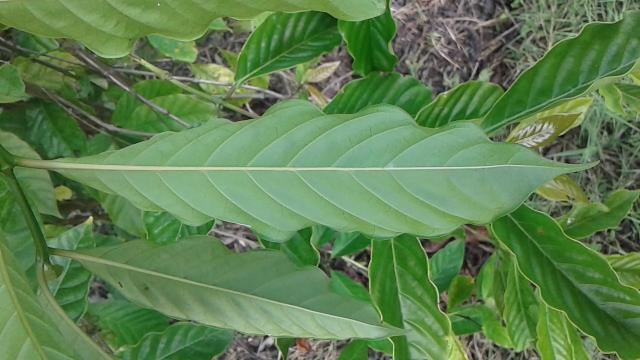healthy: (42, 101, 600, 243)
